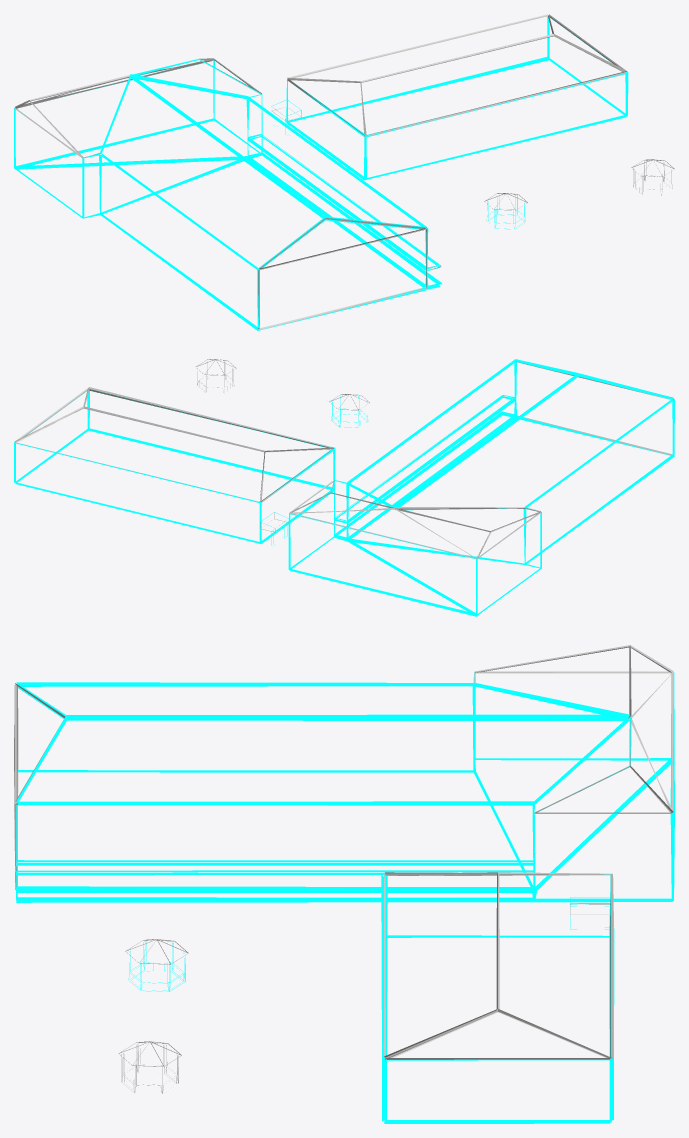
The picture shows the model from 3 angles, top to bottom: view 1: azimuth 30°, elevation 25°; view 2: azimuth 150°, elevation 25°; view 3: azimuth 270°, elevation 25°; orthographic projection. The views are drawn at different scales.
Parts seen in each view (by area): view 1: SketchUp.003; view 2: SketchUp.003; view 3: SketchUp.003.
Part boxes in pixels (box(x1,y1,x2,y2)): SketchUp.003: box(14, 14, 674, 330); SketchUp.003: box(14, 359, 674, 616); SketchUp.003: box(14, 645, 674, 1123).
Size of the model in its own units: 7.91 by 1.2 by 6.07.
Materials: 17 (15 with a texture image).
